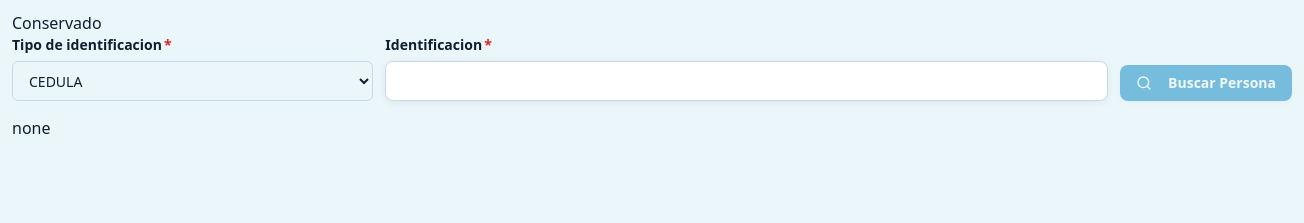
Test case: SearchOrCreatePersona comun › un fallo de consulta no equivale a ausencia
This screenshot has width=1304, height=223.
Type "0102030405" into the field labelled "Identificacion*" at (747, 81), box [385,61,1108,101]
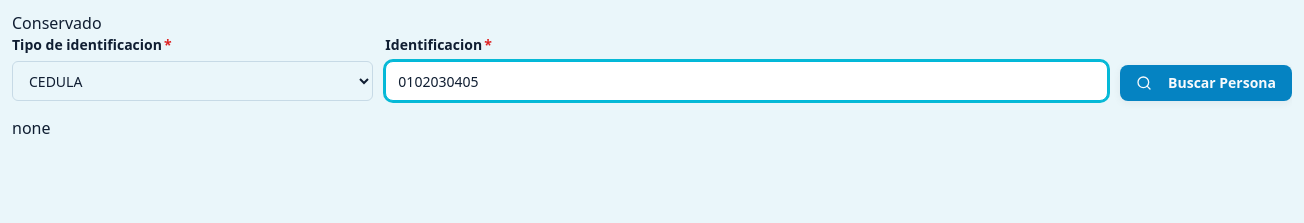
Click the button "Buscar Persona" at (1206, 83), box [1120,65,1292,101]
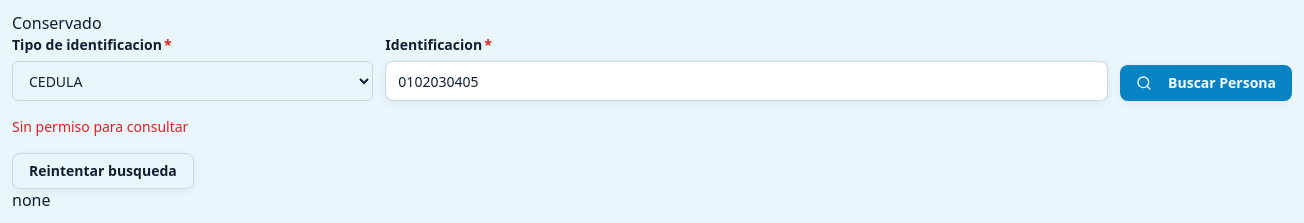
Expected: the message shows "Sin permiso", [12,117,188,136]
